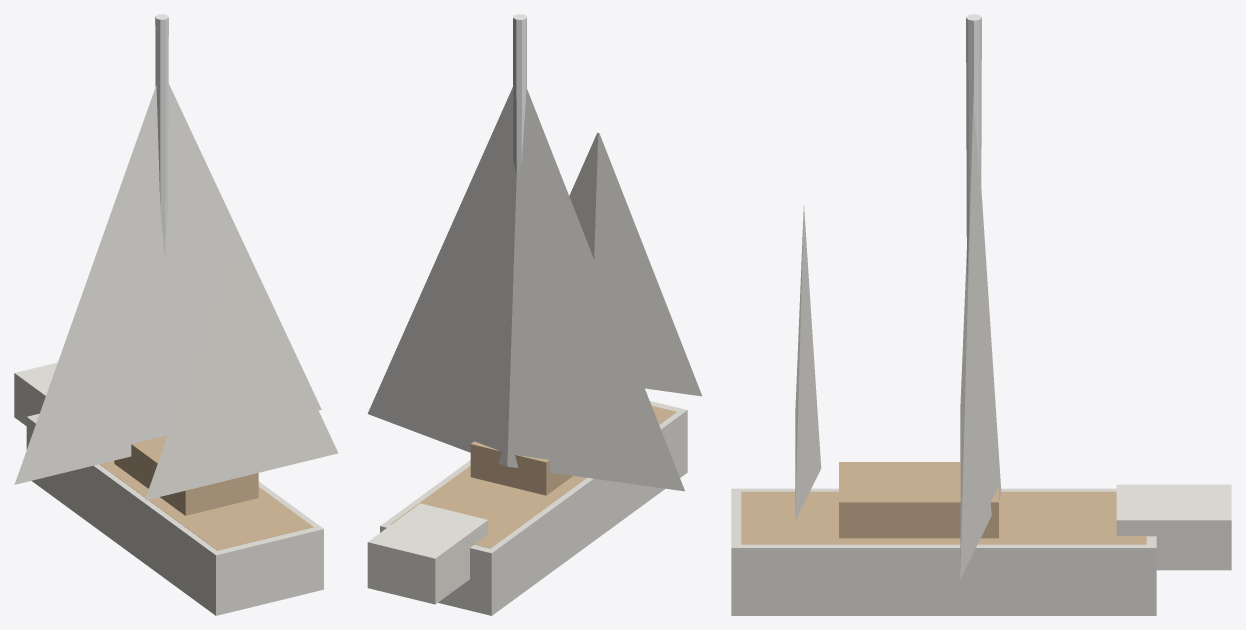
File: boat_sail.glb
The picture shows the model from 3 angles, left to right: view 1: azimuth 30°, elevation 25°; view 2: azimuth 150°, elevation 25°; view 3: azimuth 270°, elevation 25°; orthographic projection. The views are drawn at different scales.
Parts seen in each view (by area): view 1: boat_sail; view 2: boat_sail; view 3: boat_sail.
Part boxes in pixels (x1,y1,x2,y2): boat_sail: [14, 14, 337, 615]; boat_sail: [367, 14, 701, 615]; boat_sail: [731, 14, 1231, 615].
Bounding box in the file's own units: 7.97 × 12.55 × 10.
